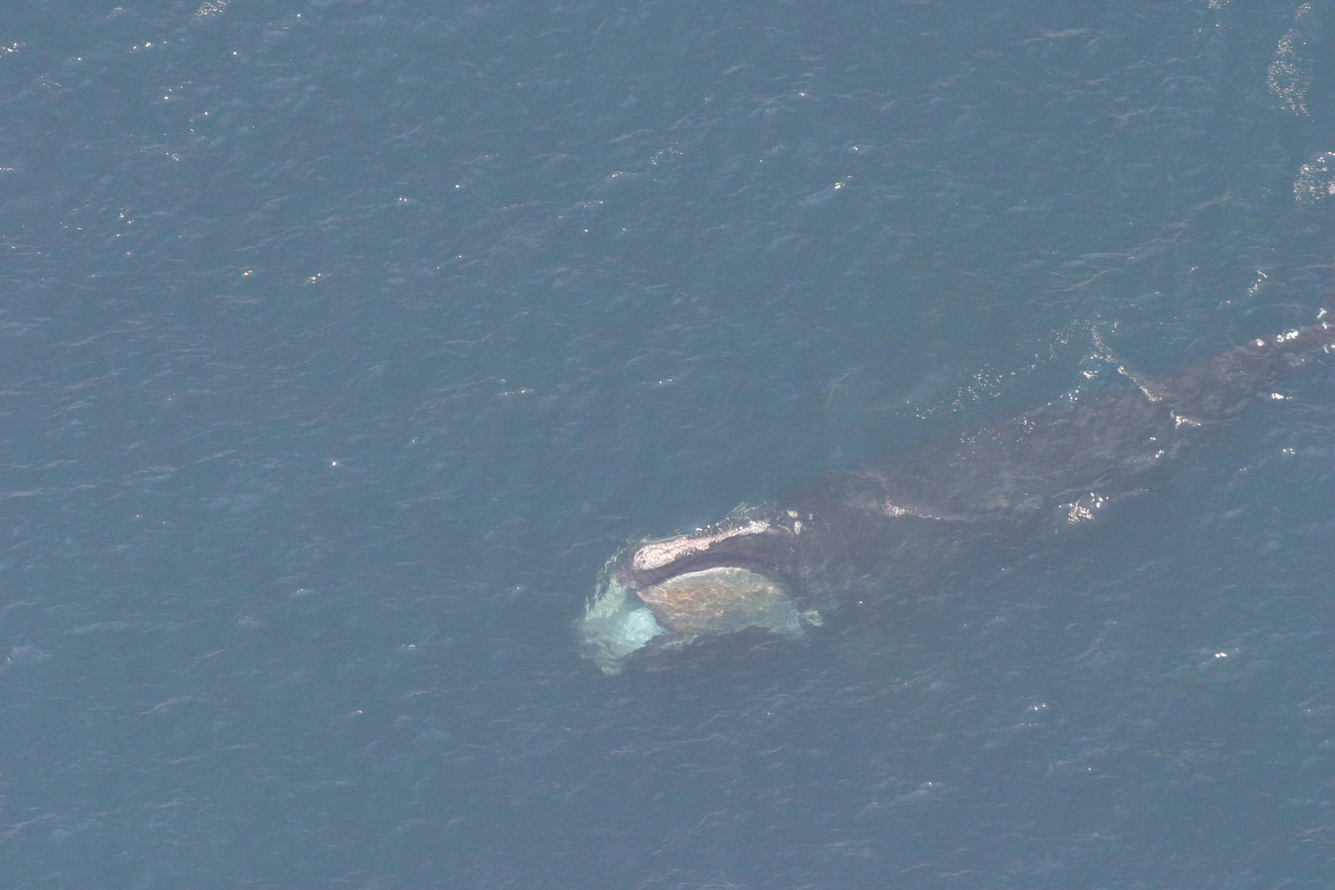whale: (567, 306, 1335, 685)
